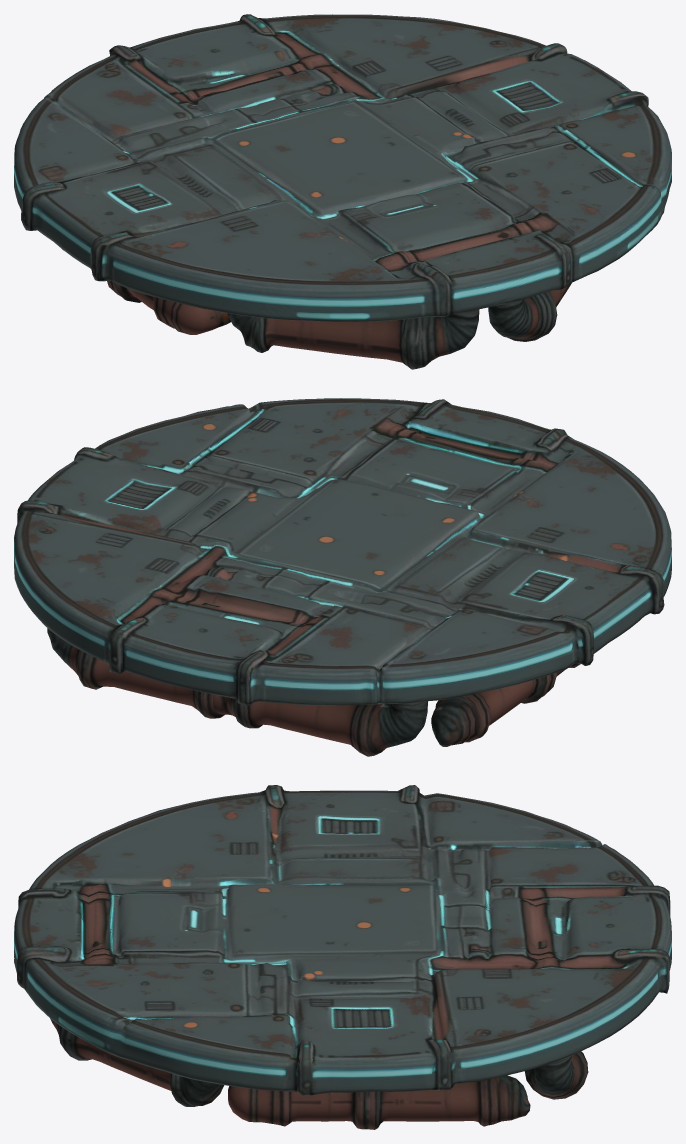
The model's file is TestStaticMesh.fbx.
3 views of the same model, one above another, from view 1: azimuth 30°, elevation 25°; view 2: azimuth 150°, elevation 25°; view 3: azimuth 270°, elevation 25° (orthographic).
Visible parts, largest first — view 1: tripo_node_0098f2f0; view 2: tripo_node_0098f2f0; view 3: tripo_node_0098f2f0.
Part boxes in pixels (<box>): tripo_node_0098f2f0: <box>14,14,671,369</box>; tripo_node_0098f2f0: <box>14,398,671,756</box>; tripo_node_0098f2f0: <box>14,785,671,1129</box>.
Bounding box in the file's own units: 0.997 × 0.1934 × 0.9998.
1 material, 1 textured.
